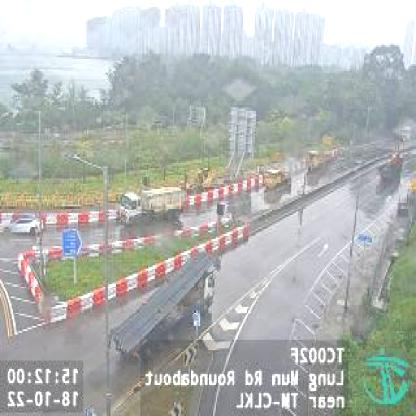Car: (0, 211, 45, 238)
Truck: (109, 249, 221, 363), (118, 185, 186, 227), (262, 166, 292, 190)
